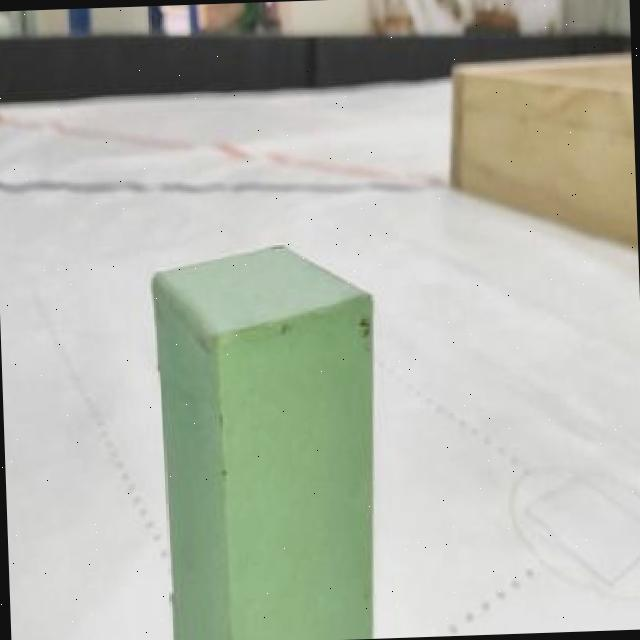greenbox: (147, 235, 390, 640)
